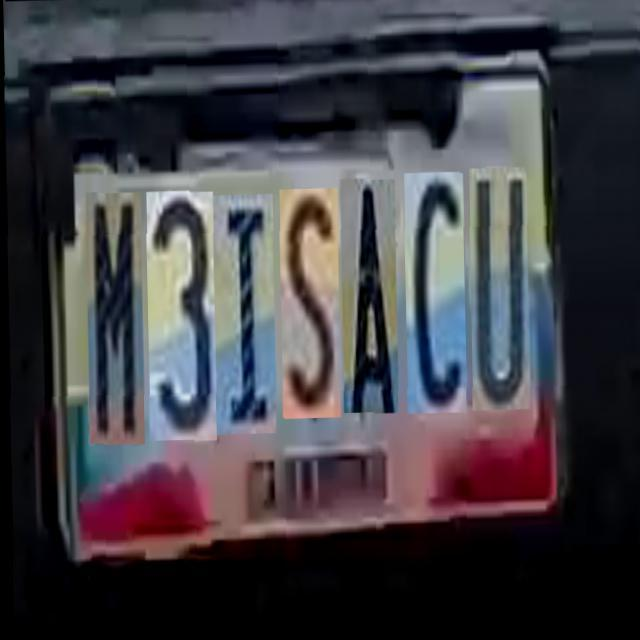3: (143, 190, 214, 441)
A: (338, 176, 396, 411)
C: (401, 169, 464, 411)
I: (210, 193, 274, 433)
M: (84, 192, 142, 444)
S: (277, 186, 339, 417)
U: (466, 164, 528, 406)
